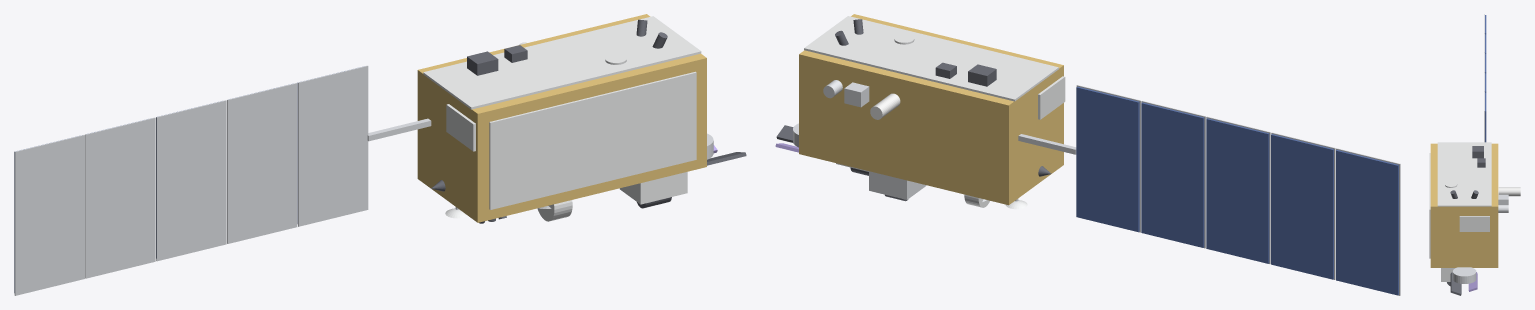
3 views of the same model, side by side, from view 1: azimuth 30°, elevation 25°; view 2: azimuth 150°, elevation 25°; view 3: azimuth 270°, elevation 25° (orthographic). The views are drawn at different scales.
Visible parts, largest first — view 1: Solar_Array, Bus, MERSI_LL, GNOS_II, SEM, MWTS_III; view 2: Solar_Array, Bus, HIRAS_II, GNOS_II, SEM, SSIM, WindRAD, X_EUVI; view 3: Bus, WindRAD, GNOS_II, Solar_Array, SEM, X_EUVI, MERSI_LL, SSIM, Star_Sensors, SIM_II.
Part boxes in pixels (box(x1,y1,x2,y2)): Solar_Array: box(14, 65, 431, 295); Bus: box(417, 14, 706, 222); MERSI_LL: box(619, 172, 687, 208); GNOS_II: box(446, 54, 626, 151); SEM: box(467, 45, 527, 75); MWTS_III: box(537, 200, 572, 221); Solar_Array: box(1018, 85, 1400, 295); Bus: box(799, 14, 1063, 205); HIRAS_II: box(869, 171, 926, 201); GNOS_II: box(894, 34, 1065, 119); SEM: box(935, 62, 996, 86); SSIM: box(844, 82, 869, 107); WindRAD: box(775, 123, 798, 152); X_EUVI: box(870, 93, 900, 119); Bus: box(1429, 142, 1498, 267); WindRAD: box(1450, 267, 1477, 295); GNOS_II: box(1445, 181, 1489, 231); Solar_Array: box(1484, 14, 1486, 142); SEM: box(1472, 146, 1485, 167); X_EUVI: box(1498, 187, 1520, 196); MERSI_LL: box(1441, 268, 1455, 286); SSIM: box(1498, 194, 1508, 204); Star_Sensors: box(1450, 190, 1478, 198); SIM_II: box(1498, 205, 1508, 212).
Size of the model in its own units: 13.47 by 3.32 by 2.69.
